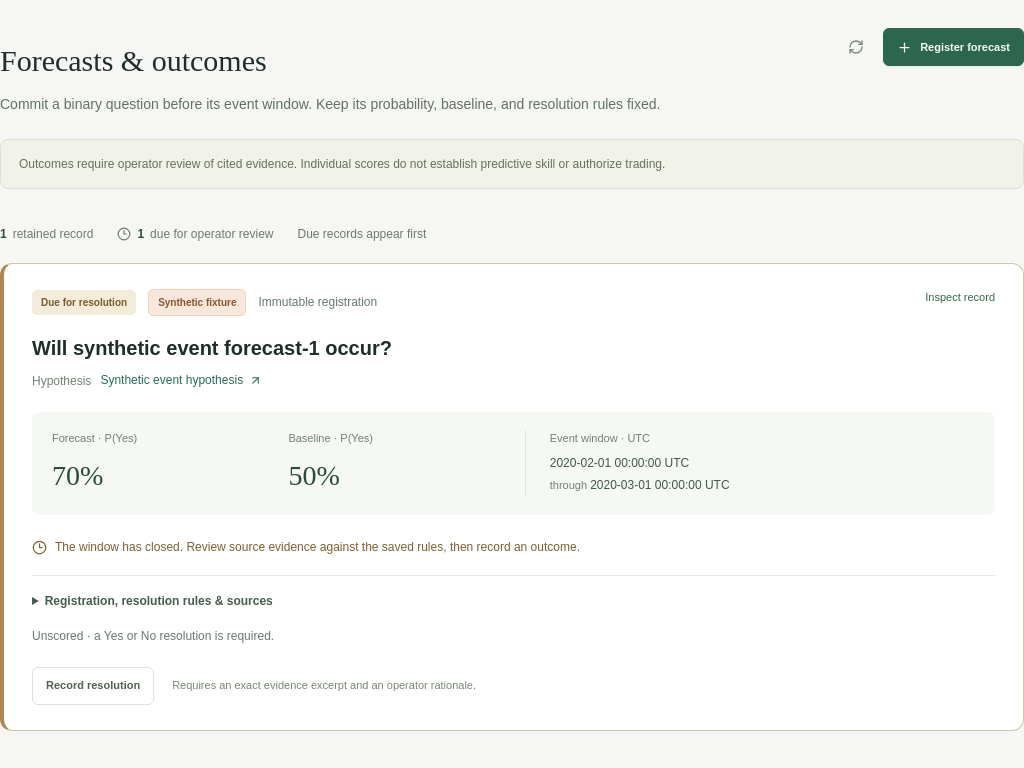
Scenario: forecast lifecycle panel › refuses to open a source that differs from its recorded hash
Click the heading "Registration, resolution rules & sources": {"x": 159, "y": 601} [45,594,273,608]
(page scrolled)
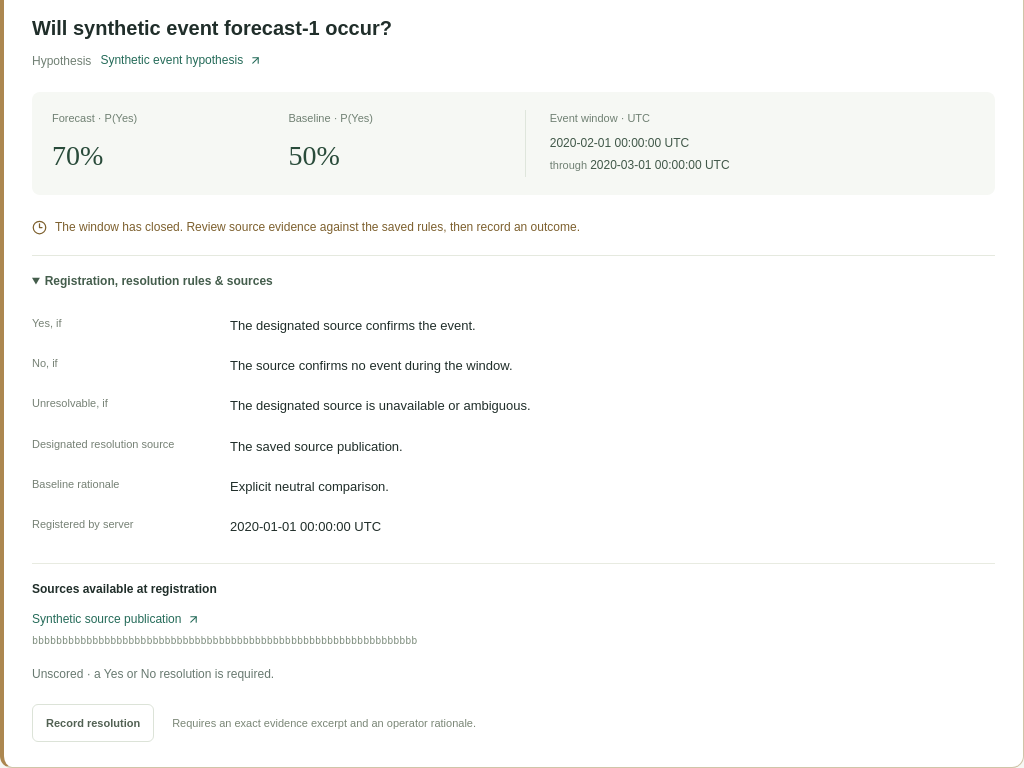
Click the button "Synthetic source publication": {"x": 107, "y": 619} [32,610,995,629]
(page scrolled)
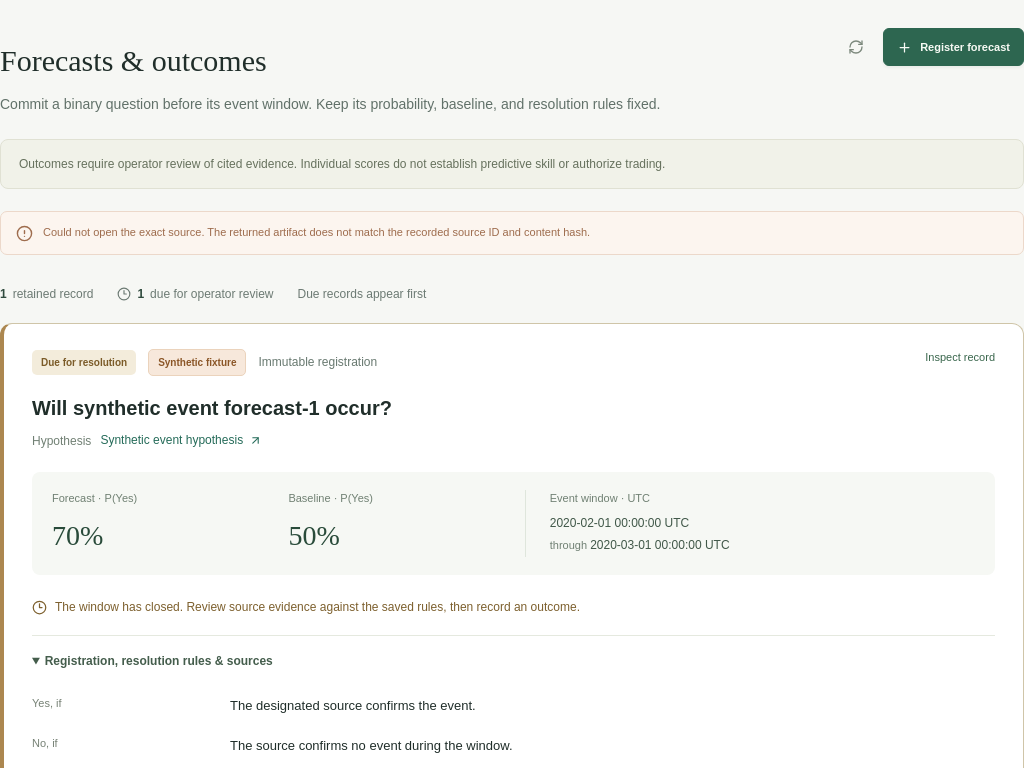
Check: the message shows "does not match the recorded source ID and content hash", box [43,226,590,238]
